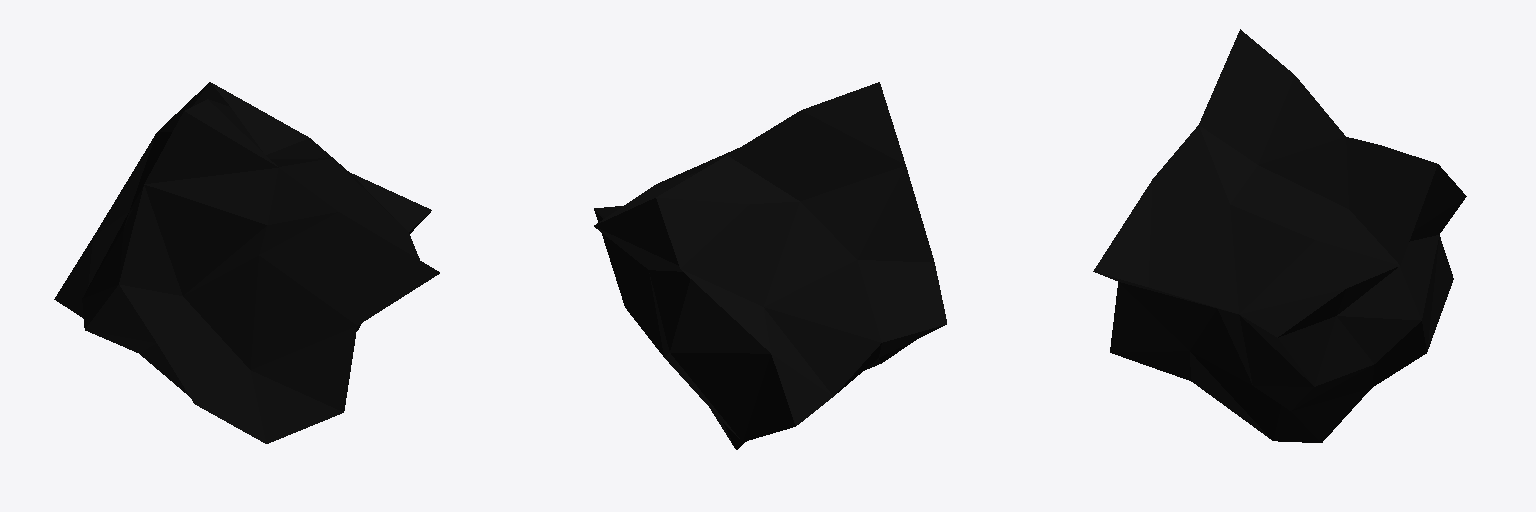
File: li-fang-ti-.013.obj
3 renders of one model, left to right at view 1: azimuth 30°, elevation 25°; view 2: azimuth 150°, elevation 25°; view 3: azimuth 270°, elevation 25°, orthographic.
Visible parts, largest first — view 1: 立方体.013; view 2: 立方体.013; view 3: 立方体.013.
Boxes of the visible parts, <box> form: 立方体.013: <box>54,82,439,443</box>; 立方体.013: <box>594,82,946,449</box>; 立方体.013: <box>1093,29,1466,442</box>.
Size of the model in its own units: 0.6778 by 0.6719 by 0.6253.